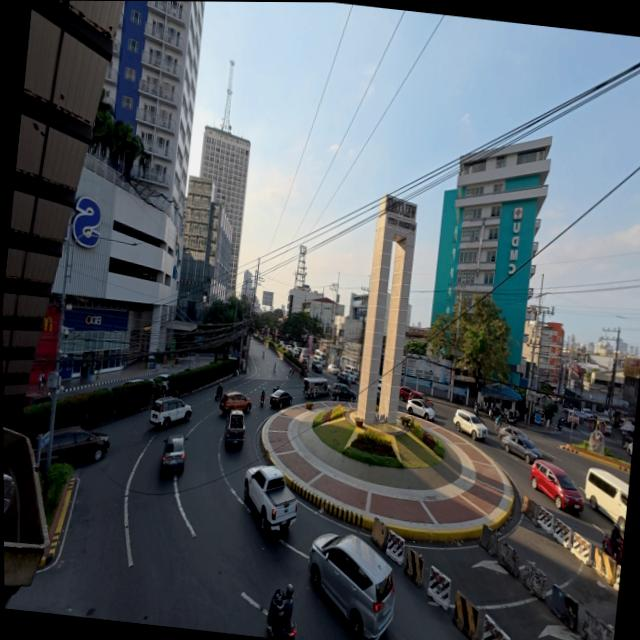Jeepneys: (303, 377, 328, 397)
car: (308, 533, 393, 639), (529, 461, 583, 512), (51, 427, 108, 464), (149, 397, 191, 428), (161, 432, 188, 475), (500, 435, 540, 464), (453, 409, 486, 441), (219, 392, 251, 414), (406, 399, 434, 420), (330, 382, 355, 402), (497, 425, 528, 439), (269, 390, 291, 409), (408, 390, 433, 406), (24, 392, 50, 406), (562, 408, 578, 428), (152, 374, 169, 392), (596, 418, 611, 435), (398, 386, 411, 401), (336, 372, 350, 385), (121, 378, 143, 386), (573, 410, 586, 422), (311, 361, 322, 373), (581, 408, 592, 418), (327, 364, 338, 374), (299, 354, 307, 364), (626, 442, 632, 455), (292, 349, 298, 358), (286, 345, 292, 352), (280, 341, 286, 348)
motorcycle: (266, 589, 296, 639), (601, 535, 623, 566), (503, 411, 516, 426), (473, 403, 483, 415), (214, 387, 222, 400), (556, 419, 562, 431), (259, 393, 264, 406)
trucks: (244, 466, 297, 533), (224, 411, 244, 447)
vans: (585, 468, 628, 533), (344, 365, 357, 382), (314, 350, 324, 361)
